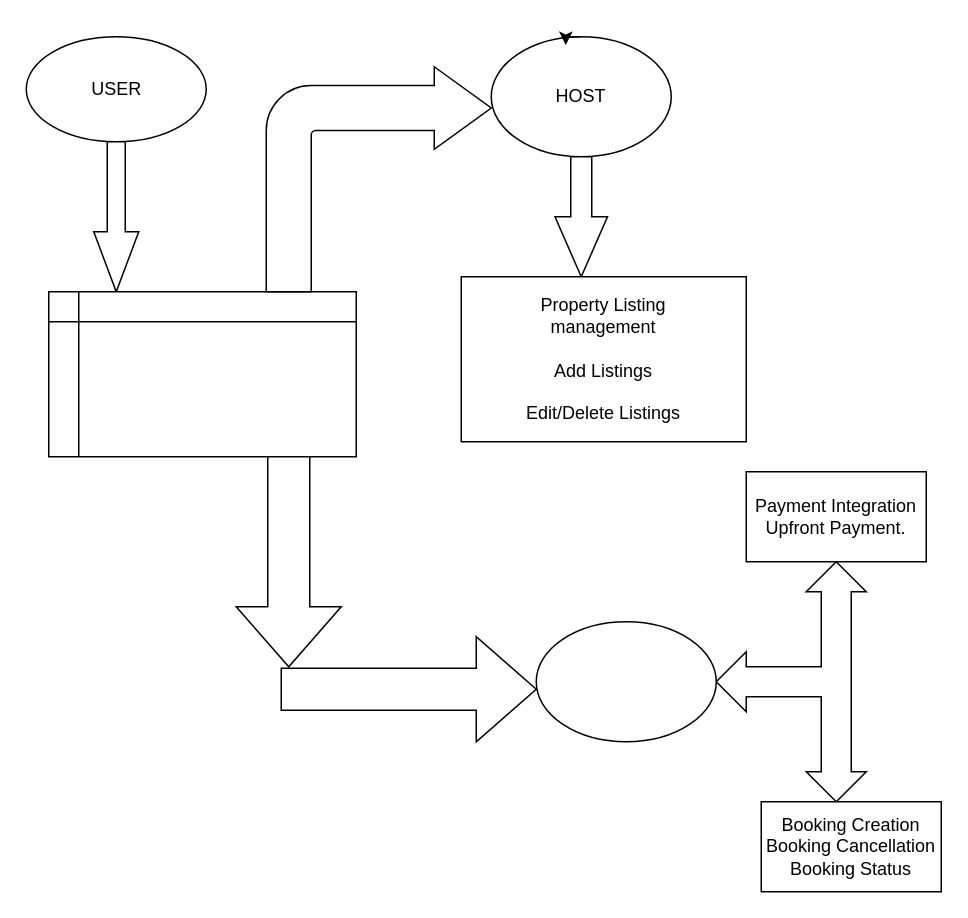
Image size: 968x918. Some labels were removed from this diagram. Each missing label, with the centre of its shape:
GUEST: [625,681]
User Registration User Login and Authentication Profile Management: [201,373]
